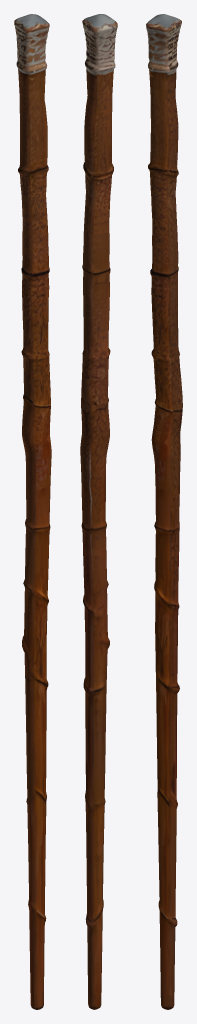
The model's file is wooden-staff.glb.
The picture shows the model from 3 angles, left to right: view 1: azimuth 30°, elevation 25°; view 2: azimuth 210°, elevation 25°; view 3: azimuth 330°, elevation 25°; orthographic projection.
Parts seen in each view (by area): view 1: Wooden Staff; view 2: Wooden Staff; view 3: Wooden Staff.
Part boxes in pixels (box(x1,y1,x2,y2)): Wooden Staff: box(14, 14, 51, 1009); Wooden Staff: box(80, 14, 117, 1009); Wooden Staff: box(146, 14, 182, 1009).
Bounding box in the file's own units: 0.0312 × 1 × 0.0281.
Materials: 1 (1 with a texture image).
